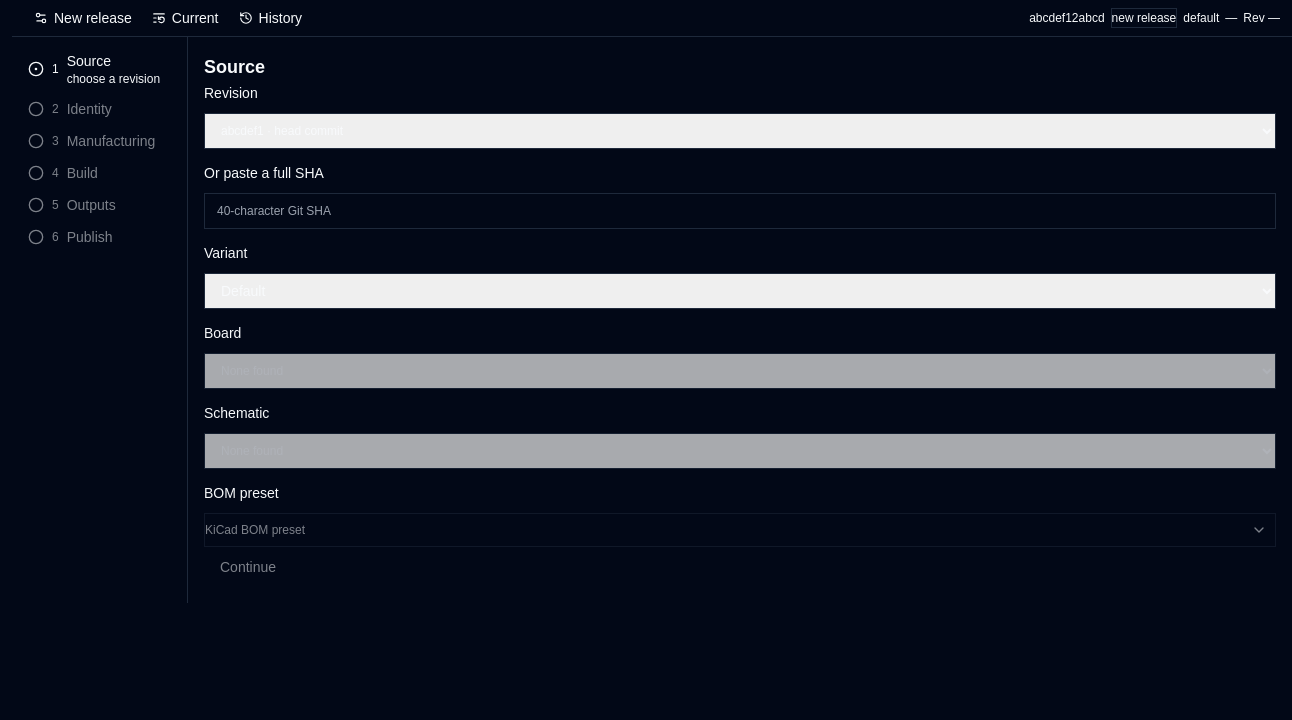
Test case: ReleaseStudioPanel › shows missing vendor workbooks even when canonical outputs exist
Click the button "History".
click(270, 18)  # box [228,4,312,32]
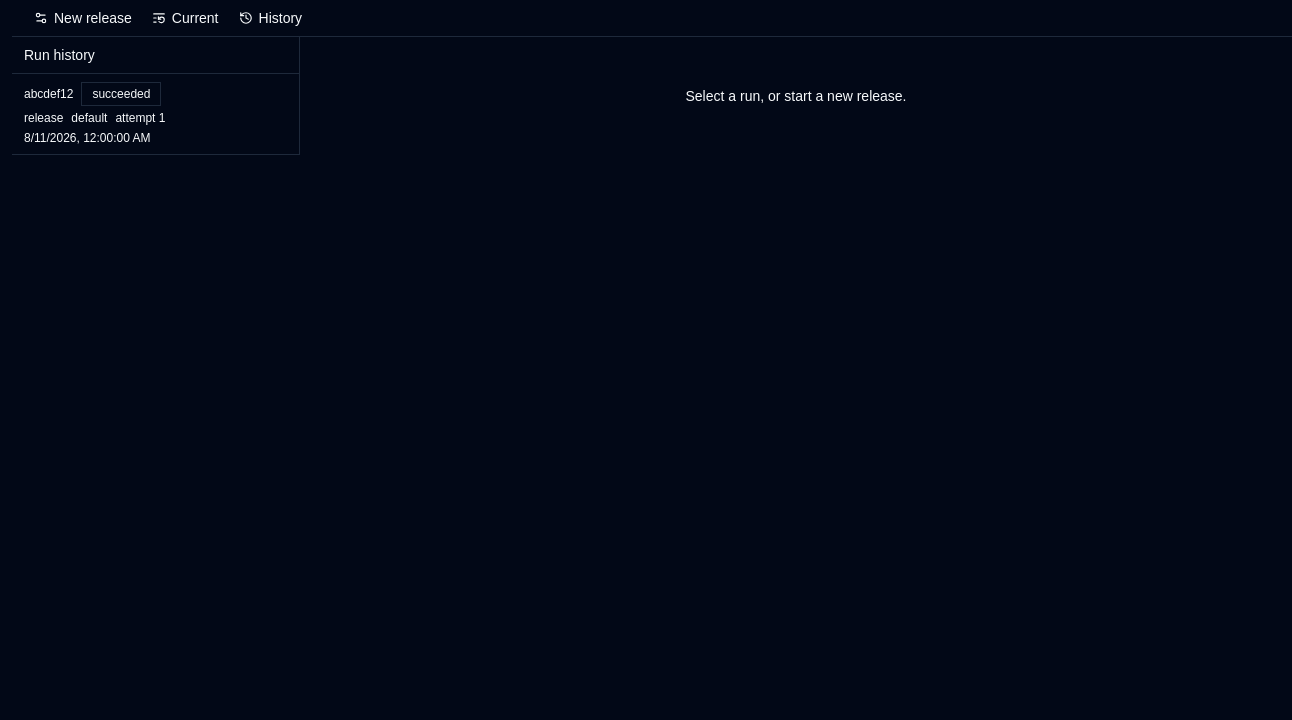
Click the button "abcdef12".
click(156, 114)  # box [12,74,299,155]
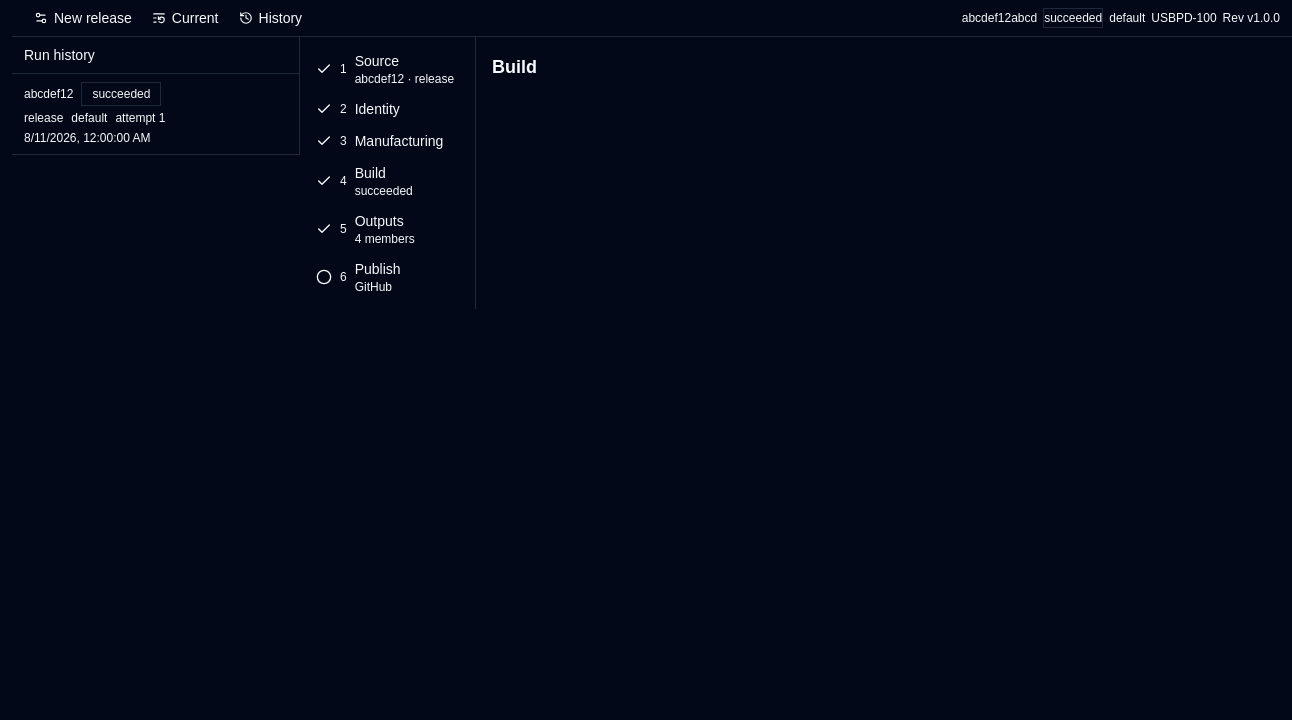
Expected: the button "5 Outputs 4 members" is enabled
Click the button "5 Outputs 4 members".
click(388, 229)  # box [308,205,467,253]
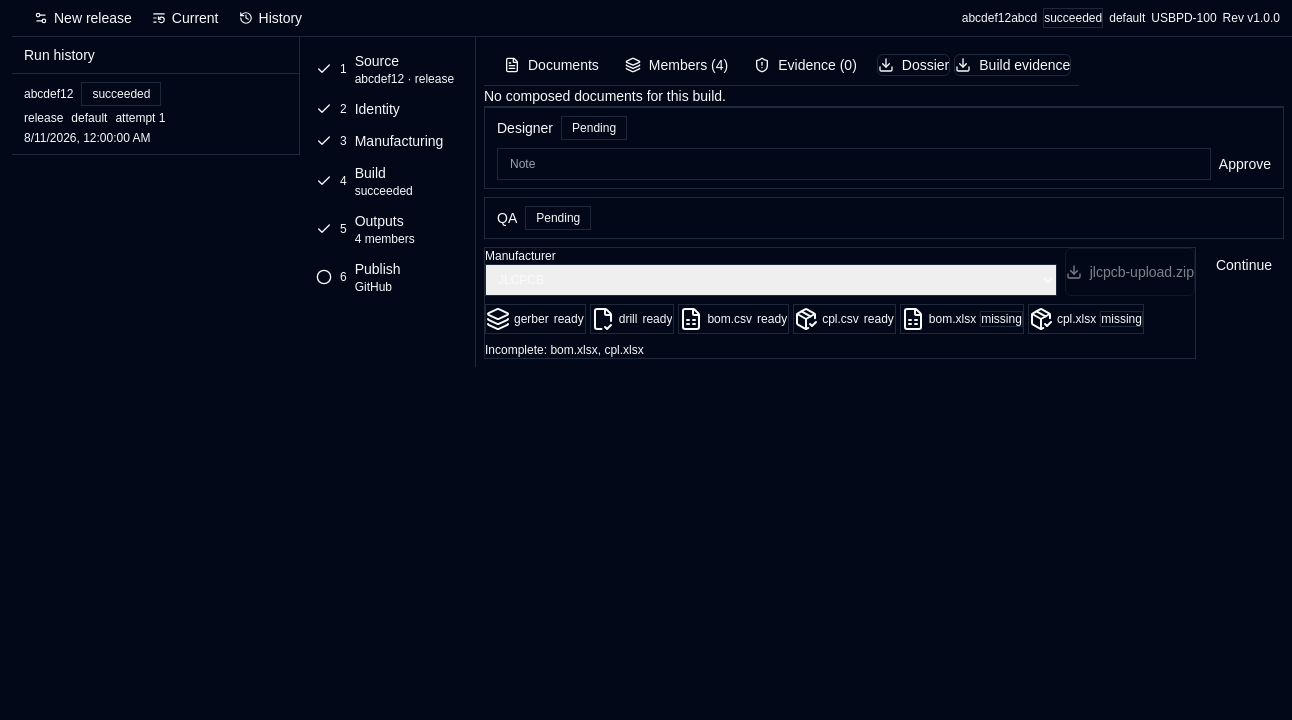
Expected: the button with aria-label "Download jlcpcb-upload.zip" is disabled, [1065,248,1195,296]
